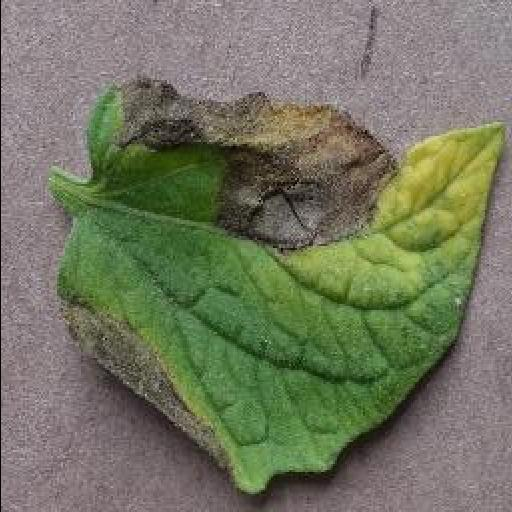disease_tomato: (46, 80, 506, 498)
